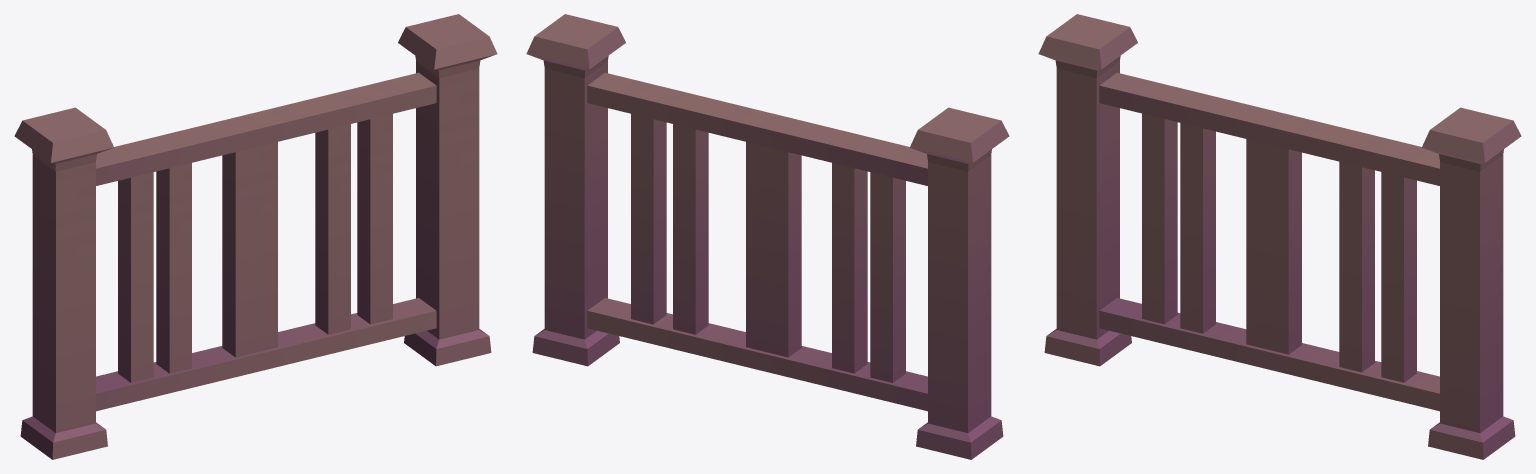
File: fence001.obj
3 views of the same model, side by side, from view 1: azimuth 30°, elevation 25°; view 2: azimuth 150°, elevation 25°; view 3: azimuth 330°, elevation 25° (orthographic).
Visible parts, largest first — view 1: fence.001; view 2: fence.001; view 3: fence.001.
Boxes of the visible parts, x1=… form: fence.001: x1=14, y1=14, x2=497, y2=459; fence.001: x1=526, y1=14, x2=1009, y2=459; fence.001: x1=1038, y1=14, x2=1521, y2=459.
Size of the model in its own units: 4.43 by 3 by 0.6277.
Materials: 1 (1 with a texture image).
